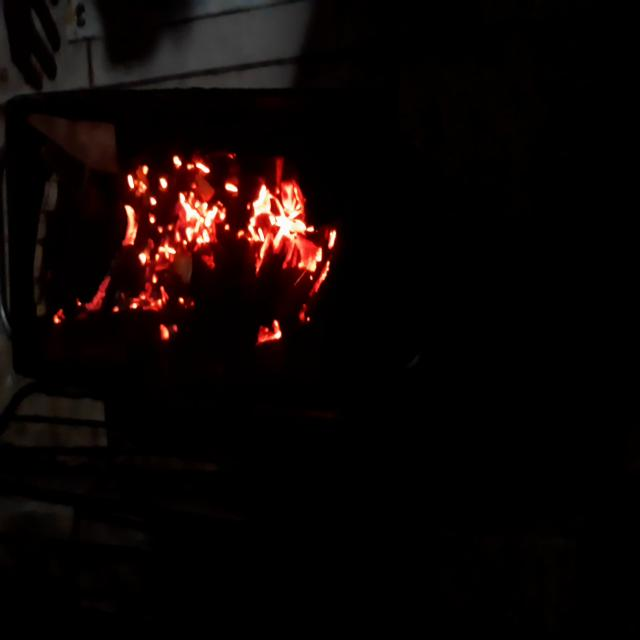Fire: (49, 122, 347, 354)
